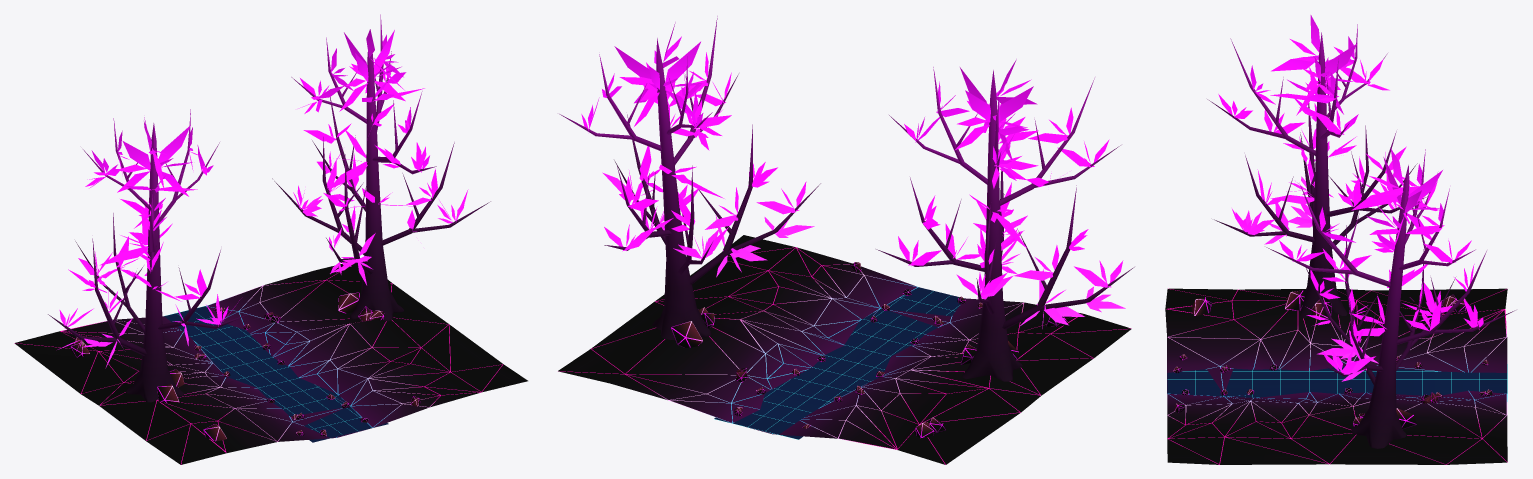
Rendered from Terrain_Forest_2.fbx.
The picture shows the model from 3 angles, left to right: view 1: azimuth 30°, elevation 25°; view 2: azimuth 150°, elevation 25°; view 3: azimuth 270°, elevation 25°; orthographic projection. The views are drawn at different scales.
Visible parts, largest first — view 1: Terrain_Forest_2; view 2: Terrain_Forest_2; view 3: Terrain_Forest_2.
Part boxes in pixels (<box>): Terrain_Forest_2: <box>14,14,527,464</box>; Terrain_Forest_2: <box>558,16,1134,464</box>; Terrain_Forest_2: <box>1165,15,1515,464</box>.
Size of the model in its own units: 7288 by 4528 by 4779.
